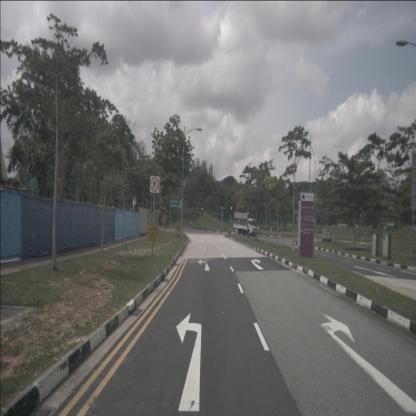vehicle-truck: (233, 212, 259, 238)
